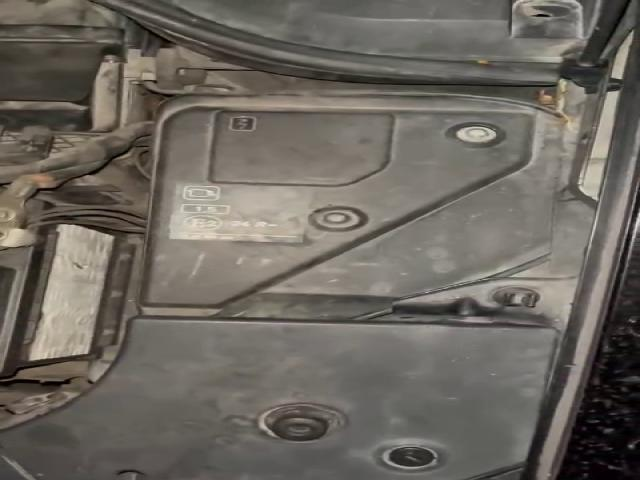fuse_box: (145, 105, 532, 311)
